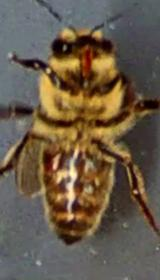varroa_mite: (38, 138, 66, 174)
